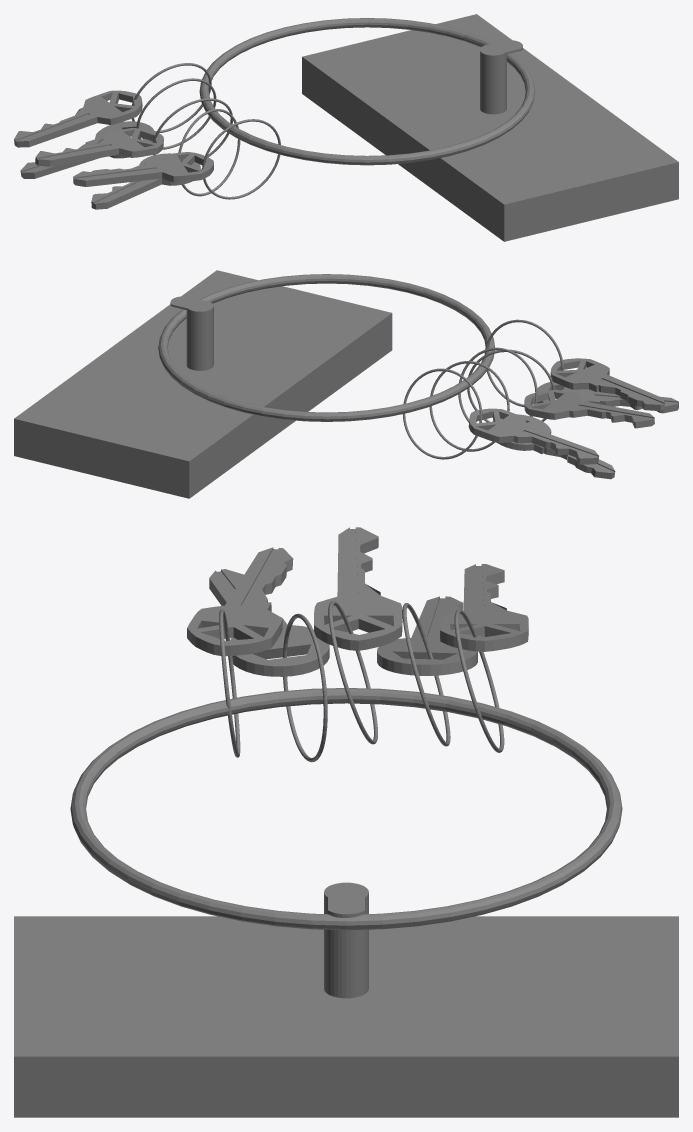
Rendered from keyring.fbx.
3 views of the same model, one above another, from view 1: azimuth 30°, elevation 25°; view 2: azimuth 150°, elevation 25°; view 3: azimuth 270°, elevation 25° (orthographic). The views are drawn at different scales.
Visible parts, largest first — view 1: Cube; view 2: Cube; view 3: Cube.
Part boxes in pixels (<box>): Cube: <box>14,14,678,241</box>; Cube: <box>14,270,678,498</box>; Cube: <box>14,527,678,1117</box>.
Bounding box in the file's own units: 18.23 × 6.26 × 28.03.
